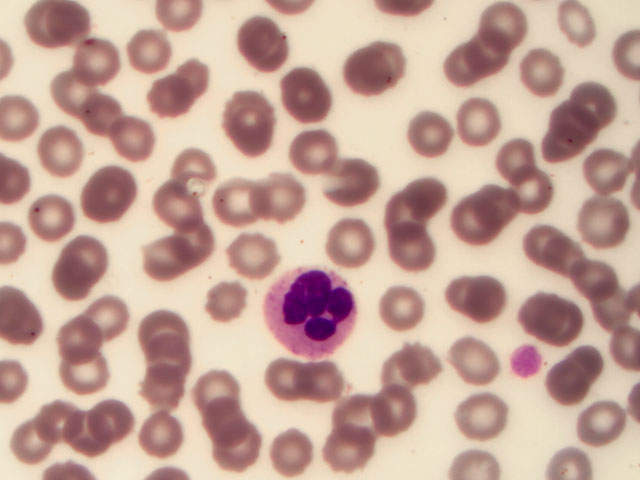Platelets: (510, 343, 545, 375)
RBC: (72, 37, 123, 88), (45, 1, 96, 52), (23, 2, 74, 53), (32, 122, 83, 173), (37, 69, 88, 120), (78, 84, 129, 135), (103, 109, 154, 160), (137, 79, 188, 130), (163, 58, 214, 109), (130, 28, 181, 79), (239, 19, 290, 70), (224, 97, 275, 148), (274, 65, 325, 116), (341, 52, 392, 103), (382, 44, 433, 95), (430, 42, 481, 93), (469, 34, 520, 85), (517, 46, 568, 97), (449, 96, 500, 147), (398, 105, 449, 156), (391, 174, 442, 225), (375, 203, 426, 254), (389, 234, 440, 285), (324, 217, 375, 268), (328, 160, 379, 211), (289, 127, 340, 178), (255, 174, 306, 225), (215, 175, 266, 226), (168, 148, 219, 199), (154, 184, 205, 235), (171, 206, 222, 257), (141, 238, 192, 289), (86, 170, 137, 221), (28, 190, 79, 241), (59, 224, 110, 275), (54, 260, 105, 311), (93, 291, 144, 342), (56, 313, 107, 364), (53, 351, 104, 402), (199, 278, 250, 329), (135, 293, 186, 344), (143, 324, 194, 375), (135, 366, 186, 417), (94, 395, 145, 446), (138, 412, 189, 463), (61, 411, 112, 462), (30, 391, 81, 442), (9, 429, 60, 480), (199, 359, 250, 410), (200, 403, 251, 454), (212, 424, 263, 475), (265, 429, 316, 480), (254, 351, 305, 402), (291, 353, 342, 404), (325, 429, 376, 480), (339, 386, 390, 437), (377, 388, 428, 439), (366, 353, 417, 404), (389, 338, 440, 389), (377, 284, 428, 335), (435, 274, 486, 325), (471, 274, 522, 325), (455, 345, 506, 396), (458, 401, 509, 452), (456, 429, 507, 480), (572, 385, 623, 436), (538, 357, 589, 408), (552, 338, 603, 389), (543, 297, 594, 348), (522, 286, 573, 337), (562, 256, 613, 307), (545, 233, 596, 284), (527, 213, 578, 264), (573, 198, 624, 249), (584, 158, 635, 209), (544, 124, 595, 175), (549, 104, 600, 155), (562, 83, 613, 134), (490, 125, 541, 176), (504, 158, 555, 209), (476, 173, 527, 224), (454, 197, 505, 248), (483, 1, 534, 51), (1, 292, 51, 343)
WBC: (262, 263, 362, 351)
